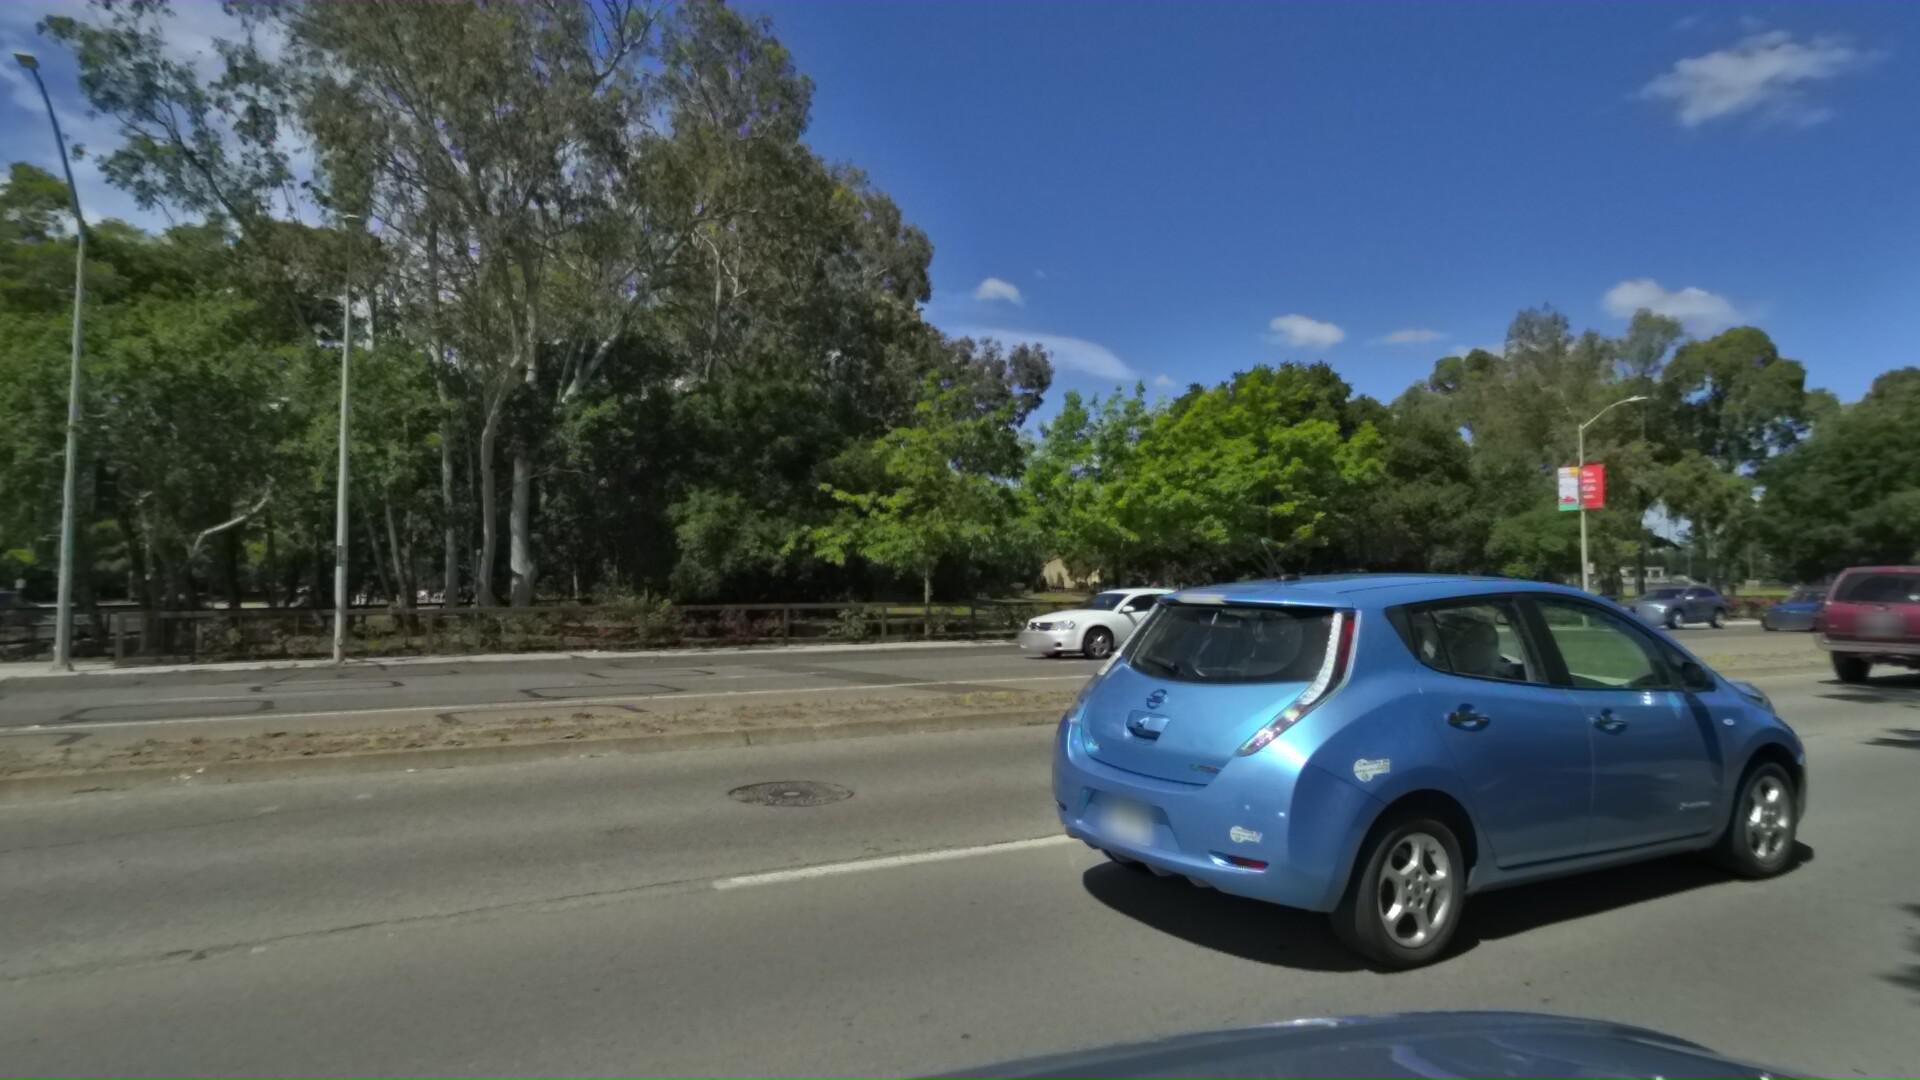car: (1019, 551, 1858, 1001), (949, 572, 1197, 659), (1811, 553, 1920, 688), (1721, 578, 1859, 628), (1596, 582, 1722, 632), (0, 583, 46, 632)
